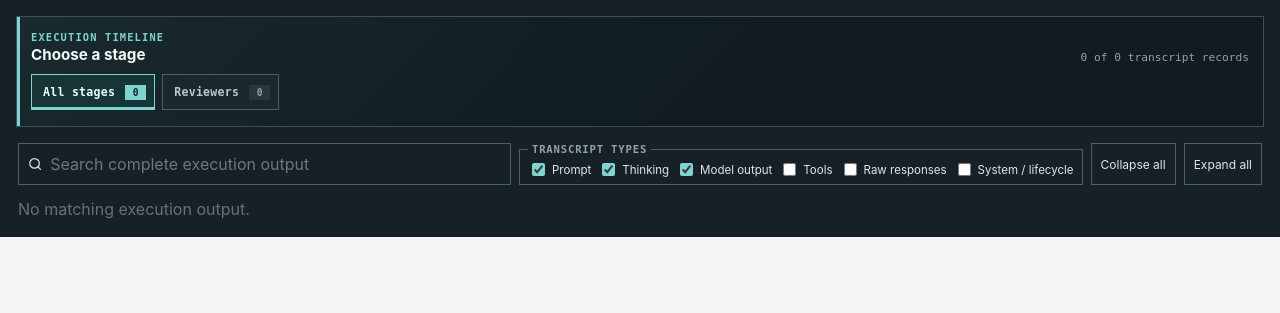
Test: uses visible transcript records for stage and reviewer counts
This screenshot has width=1280, height=313.
Expected: the 2nd text "0" is shown, [249,84,270,100]
Click the checkbox labelled "System / lifecycle" at [964, 170], box [958,163,971,176]
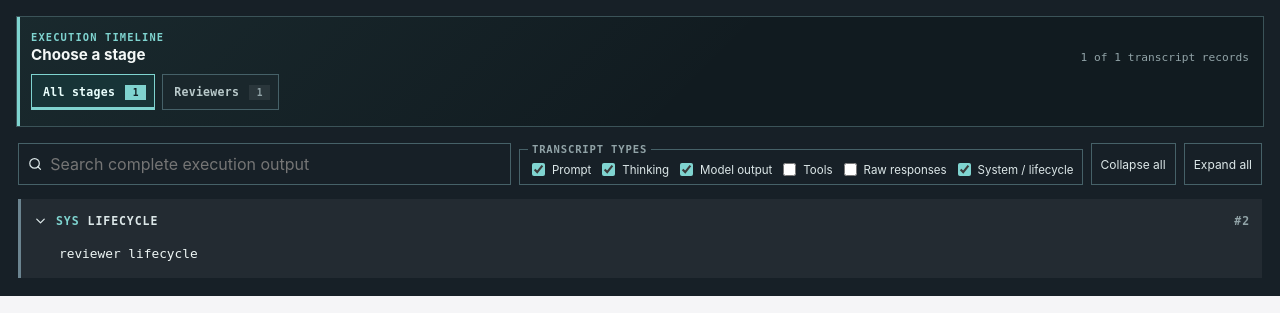
Now the 2nd text "1" is shown, box [249,84,270,100]
